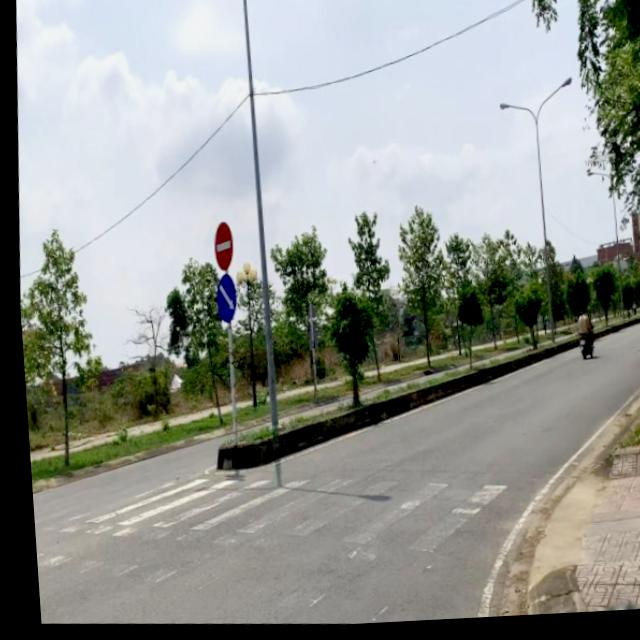Cam di nguoc chieu: (207, 222, 233, 276)
Vong chuong ngai vat sang phai: (209, 274, 235, 328)
